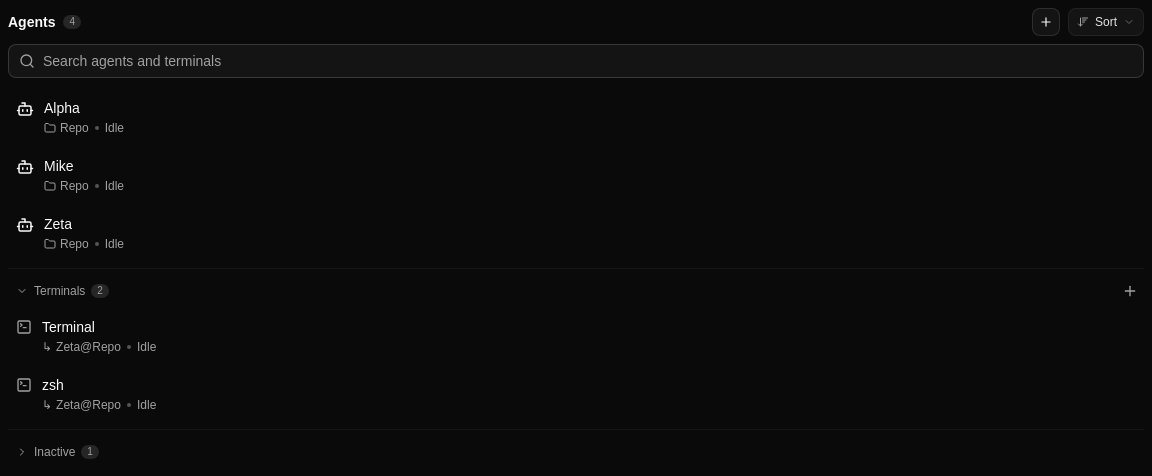
Test: FlatAgentList sort control › leaves it out in every mode the web can reach
This screenshot has width=1152, height=476.
Click the button with aria-label "Sort agents": point(1106, 22) left=1068, top=8, right=1144, bottom=36
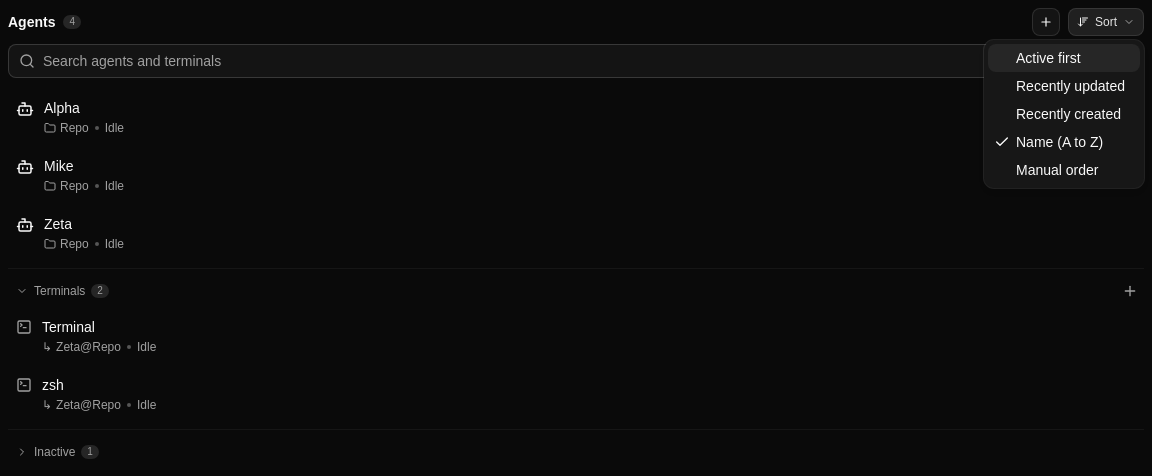
Check: the menu is shown, box left=984, top=40, right=1144, bottom=188
Check: the menu items read "Active first", "Recently updated", "Recently created", "Name (A to Z)", "Manual order", in this order, box left=988, top=44, right=1140, bottom=72; left=1016, top=78, right=1125, bottom=94; left=1016, top=106, right=1121, bottom=122; left=994, top=134, right=1103, bottom=150; left=1016, top=162, right=1098, bottom=178
